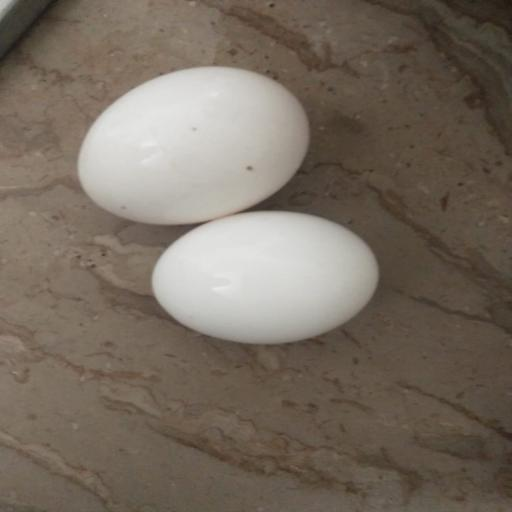telur: (78, 66, 309, 225), (151, 211, 379, 344)
